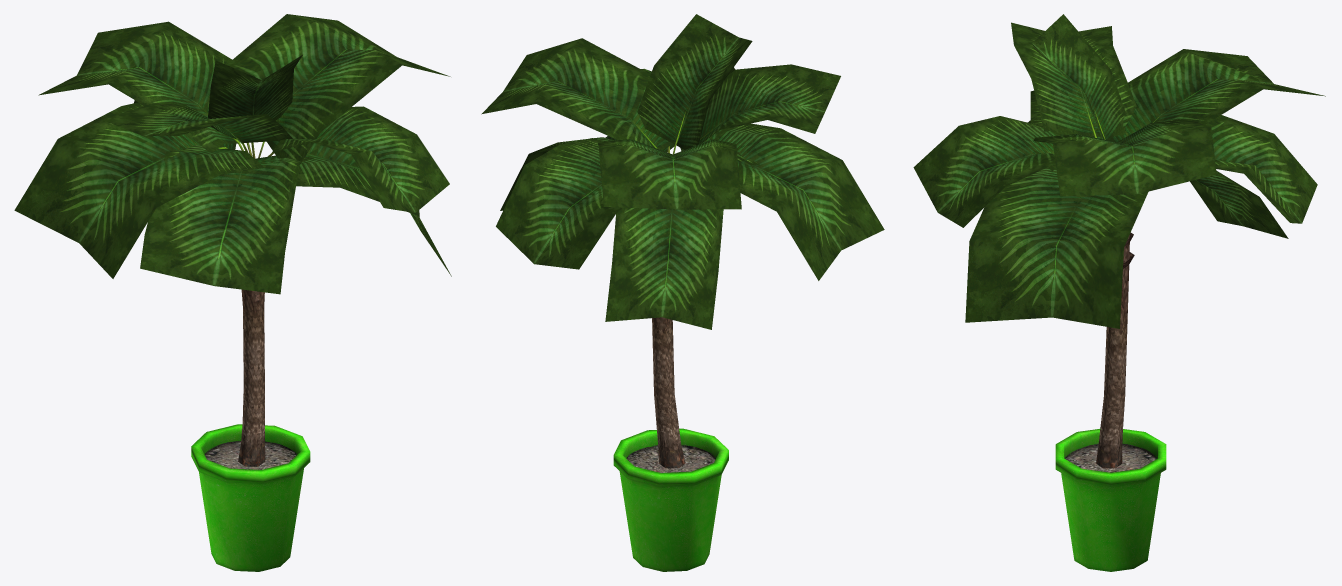
File: Furniture_foliageplant_05b_LOD1.fbx
3 renders of one model, left to right at view 1: azimuth 30°, elevation 25°; view 2: azimuth 150°, elevation 25°; view 3: azimuth 270°, elevation 25°, orthographic. The views are drawn at different scales.
Parts seen in each view (by area): view 1: F_foliageplant_05b_m4, F_foliageplant_05b_m3; view 2: F_foliageplant_05b_m4, F_foliageplant_05b_m3; view 3: F_foliageplant_05b_m4, F_foliageplant_05b_m3.
Boxes of the visible parts, left/top/right/bottom form: F_foliageplant_05b_m4: left=14, top=14, right=451, bottom=294; F_foliageplant_05b_m3: left=191, top=289, right=310, bottom=571; F_foliageplant_05b_m4: left=481, top=14, right=884, bottom=329; F_foliageplant_05b_m3: left=613, top=317, right=728, bottom=571; F_foliageplant_05b_m4: left=913, top=14, right=1325, bottom=328; F_foliageplant_05b_m3: left=1055, top=235, right=1166, bottom=571.
Size of the model in its own units: 1.4 by 1.91 by 1.4.
Materials: 2 (2 with a texture image).
